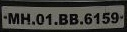character: (7, 12, 19, 25), (20, 12, 30, 25), (58, 13, 68, 25), (83, 13, 93, 25), (109, 12, 119, 24), (35, 13, 44, 25), (69, 13, 78, 25), (45, 12, 52, 26), (101, 12, 109, 24), (94, 12, 99, 25)
